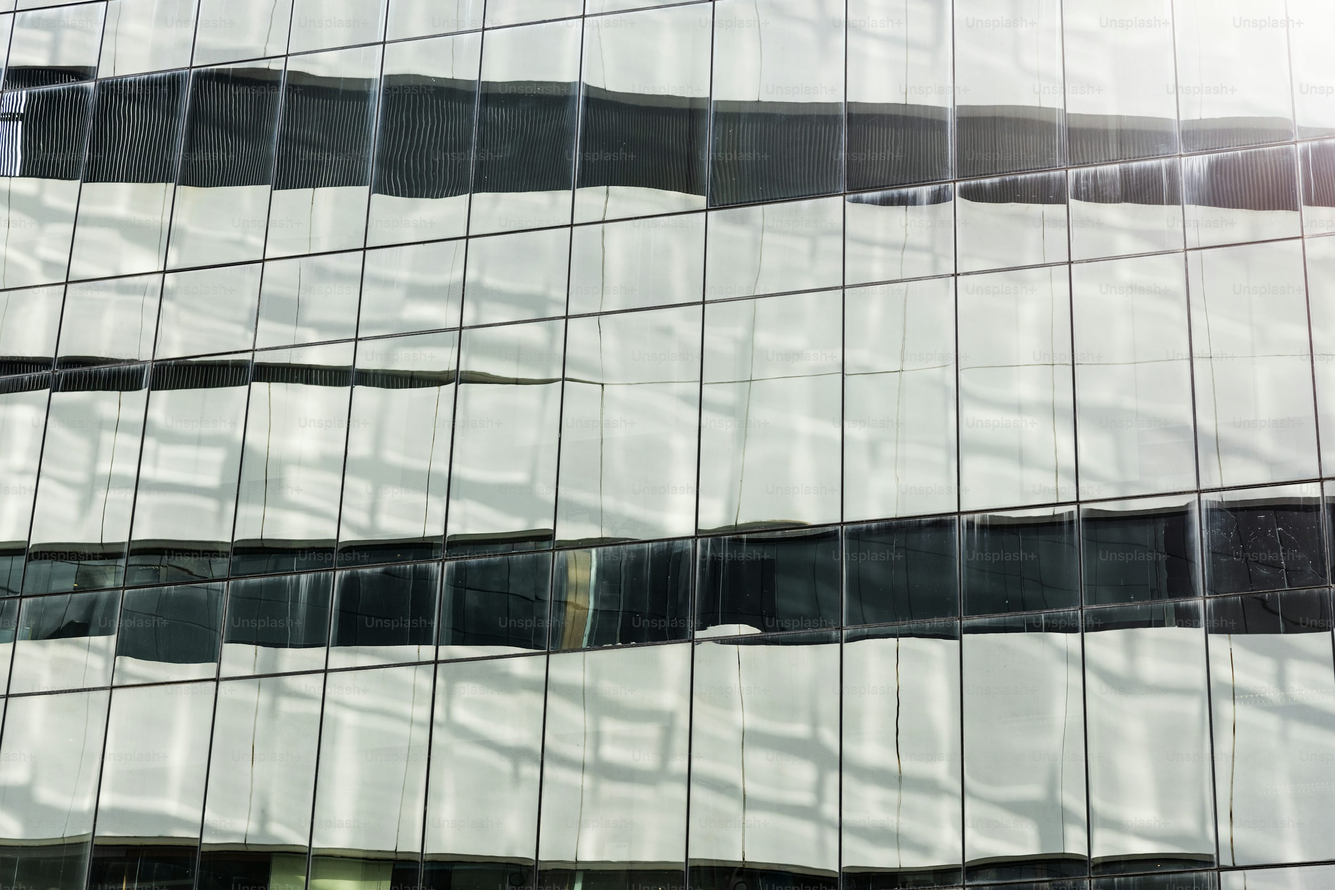glass panel: (688, 633, 840, 890), (538, 645, 692, 888), (1207, 590, 1335, 865), (1085, 601, 1214, 873), (697, 292, 842, 529), (556, 306, 701, 543), (961, 611, 1087, 881), (841, 622, 963, 890), (1188, 242, 1317, 486), (1072, 254, 1196, 499), (574, 7, 711, 221), (957, 266, 1075, 509), (231, 343, 353, 574), (425, 657, 547, 887), (127, 357, 250, 584), (24, 366, 147, 593), (710, 0, 846, 204), (843, 278, 957, 520), (339, 333, 457, 564), (311, 665, 433, 888), (447, 321, 564, 553), (200, 675, 323, 890), (89, 682, 215, 890), (70, 72, 188, 278), (266, 46, 380, 256), (368, 34, 481, 245), (167, 61, 282, 268), (470, 21, 581, 233), (0, 692, 108, 890), (846, 0, 953, 189), (955, 0, 1065, 176), (0, 84, 92, 287), (1063, 0, 1177, 163), (1174, 0, 1293, 151), (696, 529, 841, 637), (550, 540, 693, 649), (705, 197, 843, 300), (568, 214, 705, 314), (1202, 484, 1327, 593), (1082, 496, 1200, 605), (962, 507, 1079, 615), (844, 517, 958, 625), (1183, 146, 1301, 248), (328, 563, 440, 669), (439, 554, 552, 659), (220, 572, 332, 677), (1069, 159, 1183, 260), (9, 591, 120, 694), (955, 172, 1068, 272), (114, 583, 223, 685), (0, 374, 50, 596), (844, 185, 955, 285), (255, 252, 363, 349), (358, 240, 465, 337), (463, 228, 570, 325), (56, 274, 162, 369), (156, 264, 262, 359), (4, 3, 105, 89), (98, 0, 196, 77), (1283, 0, 1335, 138), (1304, 237, 1335, 467), (194, 0, 291, 64), (0, 285, 64, 376), (288, 0, 386, 52), (386, 0, 483, 40), (1299, 140, 1335, 236), (1220, 865, 1335, 890), (485, 0, 583, 28), (0, 599, 20, 691)
